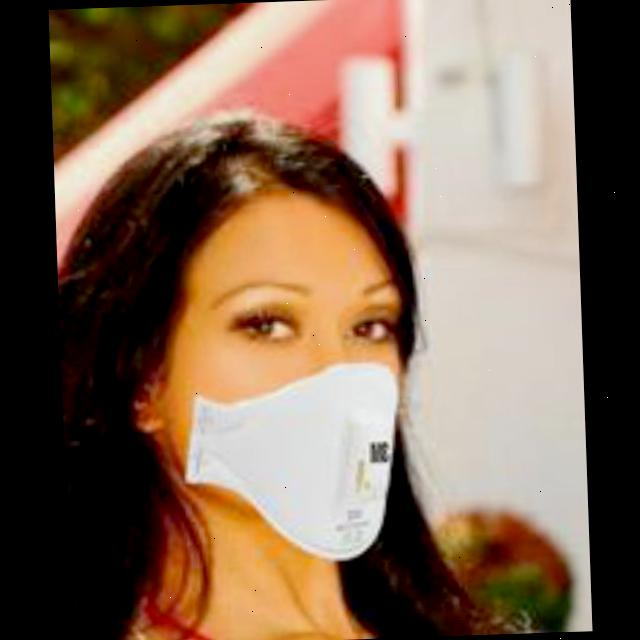suspicion: (155, 90, 425, 612)
